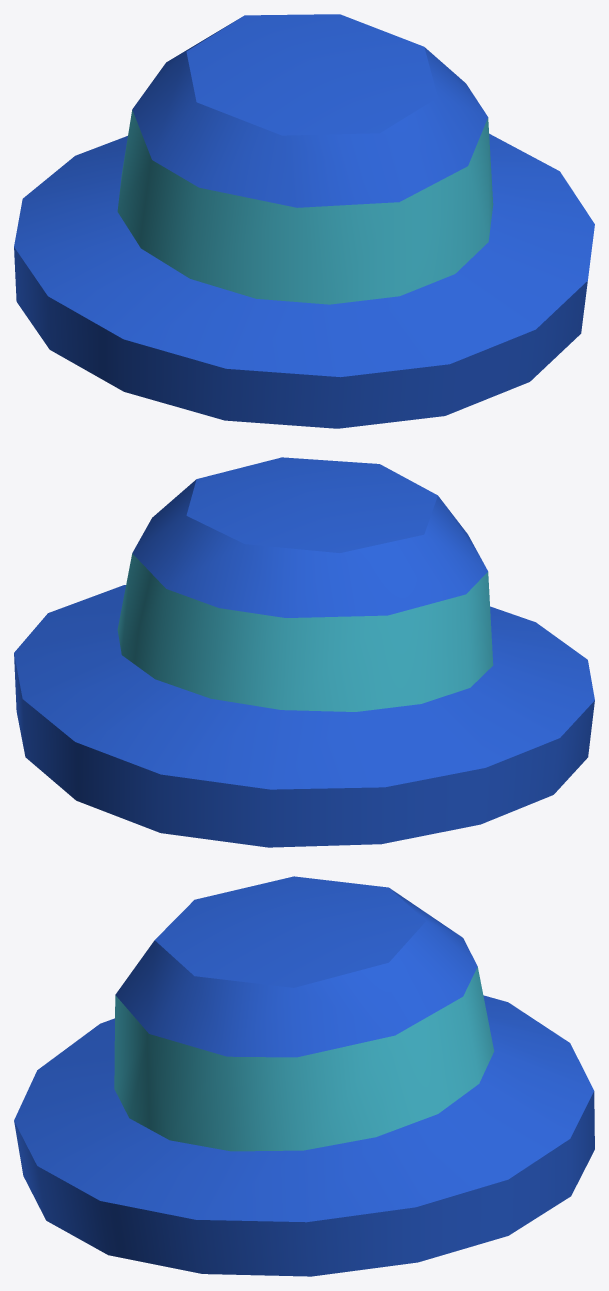
File: Gipsy_Hat_03.fbx
The picture shows the model from 3 angles, top to bottom: view 1: azimuth 30°, elevation 25°; view 2: azimuth 150°, elevation 25°; view 3: azimuth 270°, elevation 25°; orthographic projection.
Parts seen in each view (by area): view 1: Gipsy_Hat_03; view 2: Gipsy_Hat_03; view 3: Gipsy_Hat_03.
Part boxes in pixels (x1,y1,x2,y2): Gipsy_Hat_03: (14, 14, 594, 428); Gipsy_Hat_03: (14, 457, 594, 847); Gipsy_Hat_03: (14, 876, 594, 1276).
Size of the model in its own units: 64.55 by 30.9 by 63.2.
